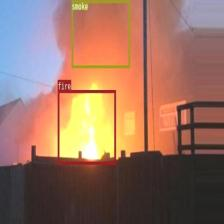fire: (58, 90, 116, 164)
smoke: (71, 0, 130, 67)
